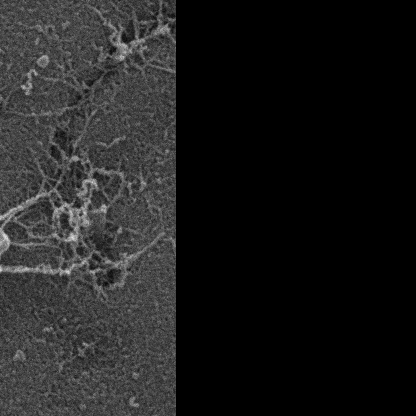cell2surface: (0, 184, 55, 224), (0, 265, 75, 279)
regular: (0, 196, 7, 254)
